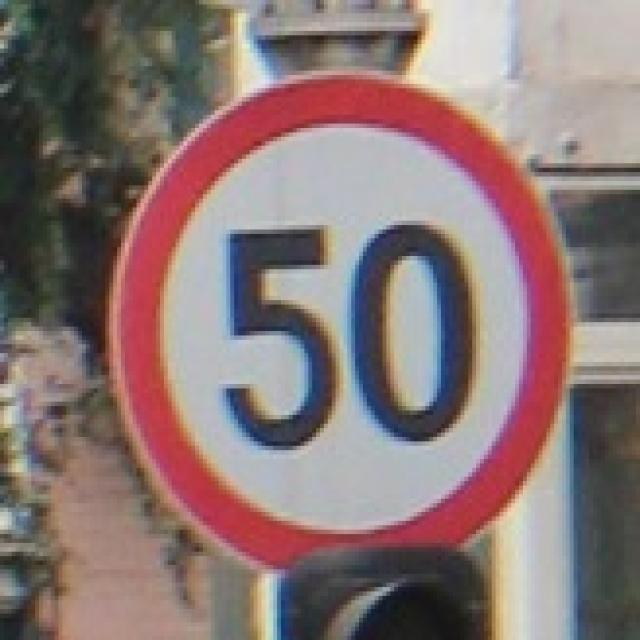Speed Limit -50-: (213, 213, 482, 453)
